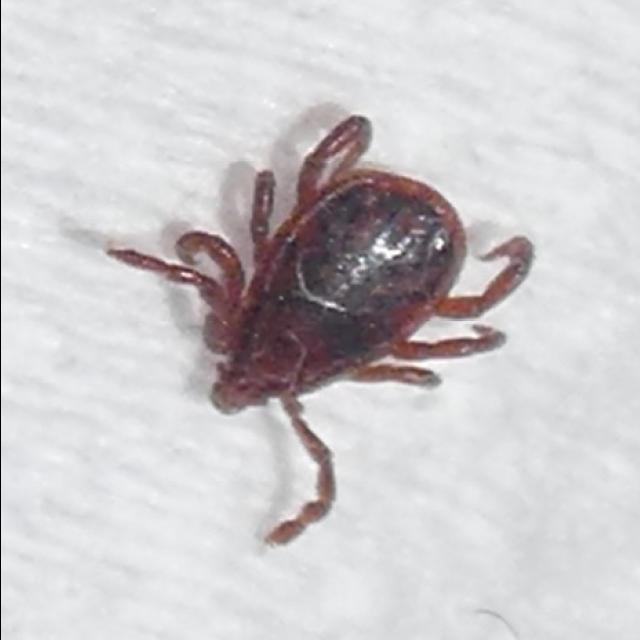Rhipicephalus Sanguineus-M: (108, 113, 537, 545)
